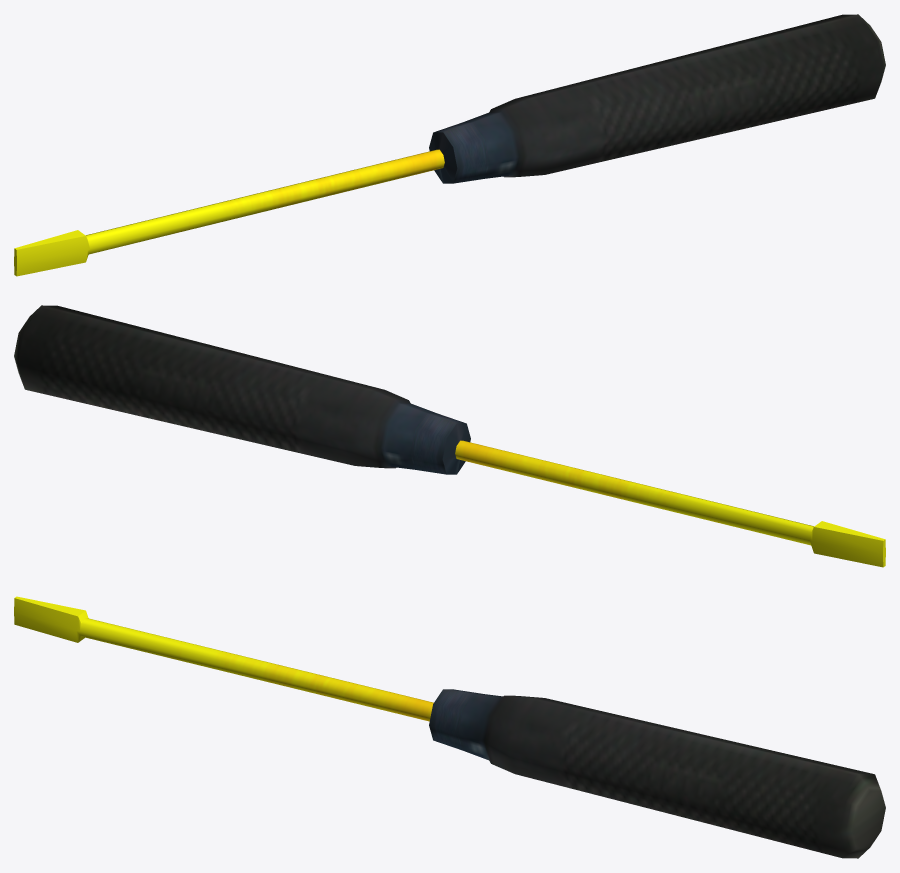
The model's file is screw driver S.fbx.
3 views of the same model, one above another, from view 1: azimuth 30°, elevation 25°; view 2: azimuth 150°, elevation 25°; view 3: azimuth 330°, elevation 25° (orthographic).
Visible parts, largest first — view 1: screw_driver_S; view 2: screw_driver_S; view 3: screw_driver_S.
Boxes of the visible parts, x1,y1,x2,y2 form: screw_driver_S: (14,14,885,276); screw_driver_S: (14,305,885,567); screw_driver_S: (14,596,885,858).
Size of the model in its own units: 0.3882 by 0.0367 by 0.0367.
